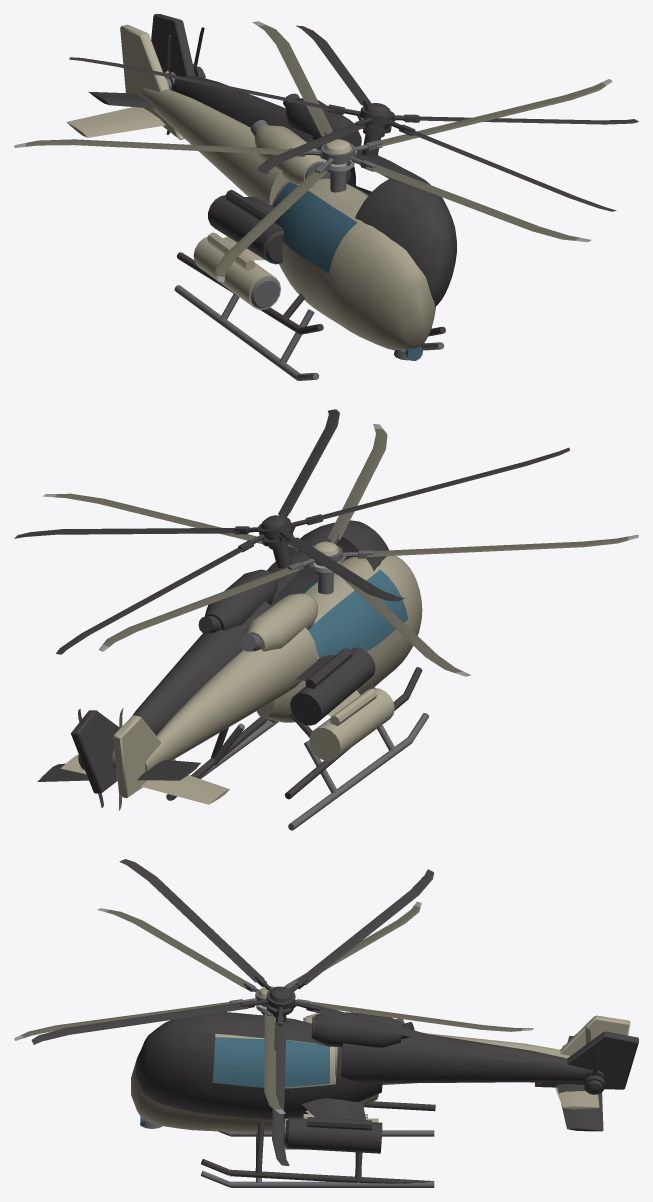
The model's file is gunship__500md_korean_attack.glb.
The picture shows the model from 3 angles, top to bottom: view 1: azimuth 30°, elevation 25°; view 2: azimuth 150°, elevation 25°; view 3: azimuth 270°, elevation 25°; orthographic projection. The views are drawn at different scales.
Parts seen in each view (by area): view 1: Fuselage_Mesh, Wreck, Rotor_Main_Mesh, Stub_Wings_Stores_Mesh, Landing_Gear_Mesh, Engines_Mesh; view 2: Wreck, Fuselage_Mesh, Rotor_Main_Mesh, Stub_Wings_Stores_Mesh, Engines_Mesh, Landing_Gear_Mesh; view 3: Wreck, Fuselage_Mesh, Rotor_Main_Mesh, Landing_Gear_Mesh.
Part boxes in pixels (left/top/right/bottom): Fuselage_Mesh: left=66, top=24, right=435, bottom=360; Wreck: left=69, top=14, right=638, bottom=336; Rotor_Main_Mesh: left=14, top=21, right=612, bottom=282; Stub_Wings_Stores_Mesh: left=193, top=232, right=280, bottom=309; Landing_Gear_Mesh: left=174, top=285, right=444, bottom=380; Engines_Mesh: left=250, top=120, right=330, bottom=183; Wreck: left=14, top=409, right=569, bottom=807; Fuselage_Mesh: left=60, top=555, right=422, bottom=804; Rotor_Main_Mesh: left=43, top=424, right=638, bottom=676; Stub_Wings_Stores_Mesh: left=309, top=688, right=394, bottom=760; Engines_Mesh: left=240, top=593, right=317, bottom=651; Landing_Gear_Mesh: left=166, top=713, right=428, bottom=830; Wreck: left=31, top=859, right=638, bottom=1183; Fuselage_Mesh: left=131, top=1015, right=630, bottom=1132; Rotor_Main_Mesh: left=14, top=901, right=533, bottom=1114; Landing_Gear_Mesh: left=201, top=1130, right=434, bottom=1187.
Size of what is drawn, in the model's own units: 7.81 by 3.84 by 9.24.
